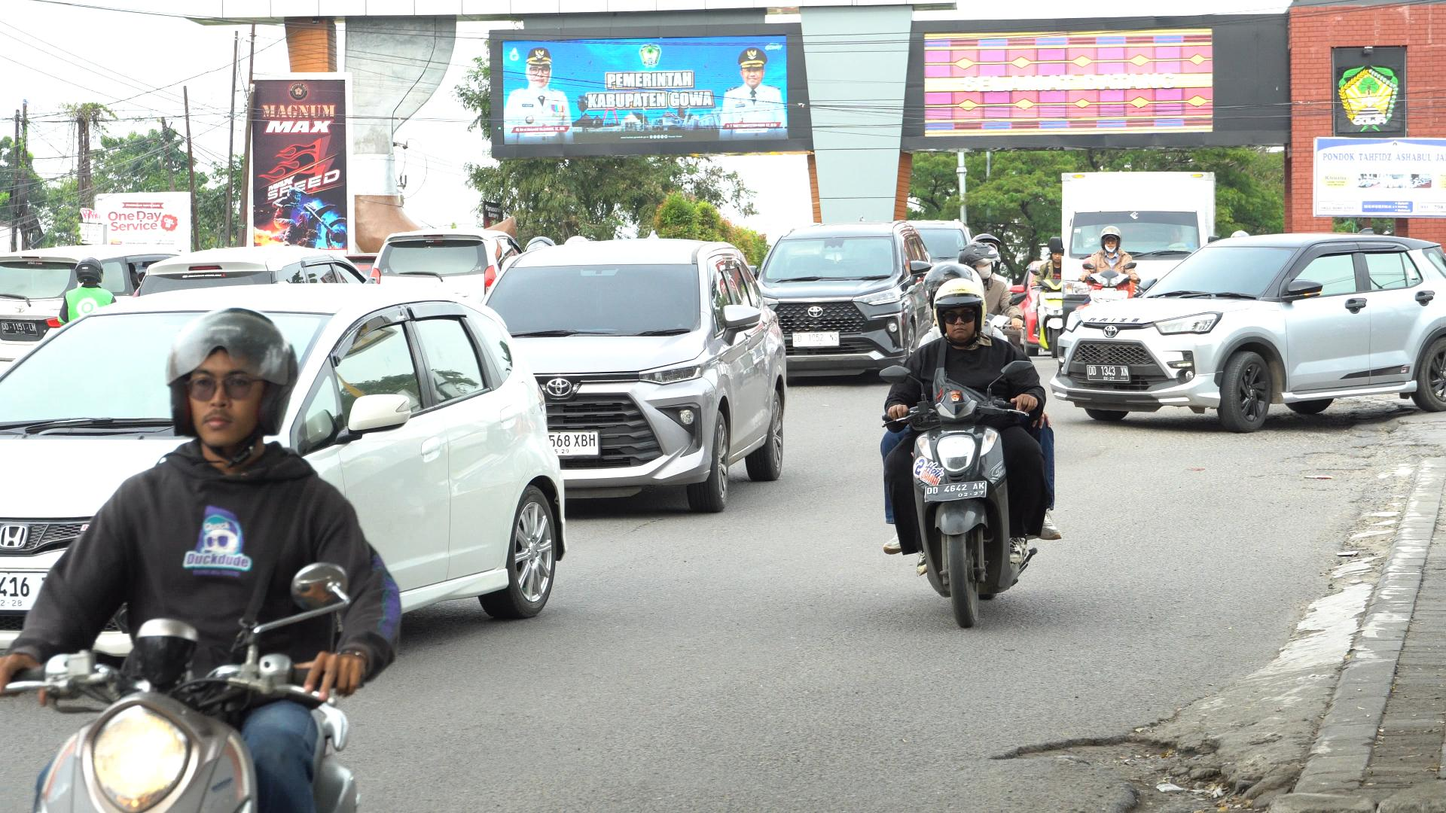number-plate: (922, 479, 985, 505)
